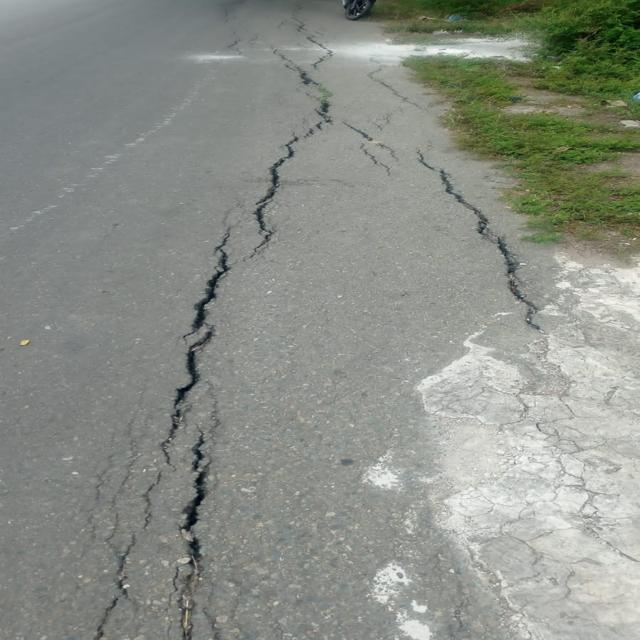Memanjang: (149, 78, 352, 640)
